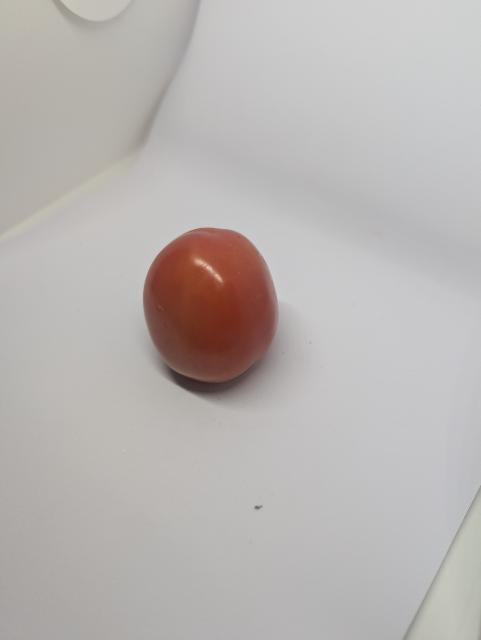red: (140, 226, 282, 389)
